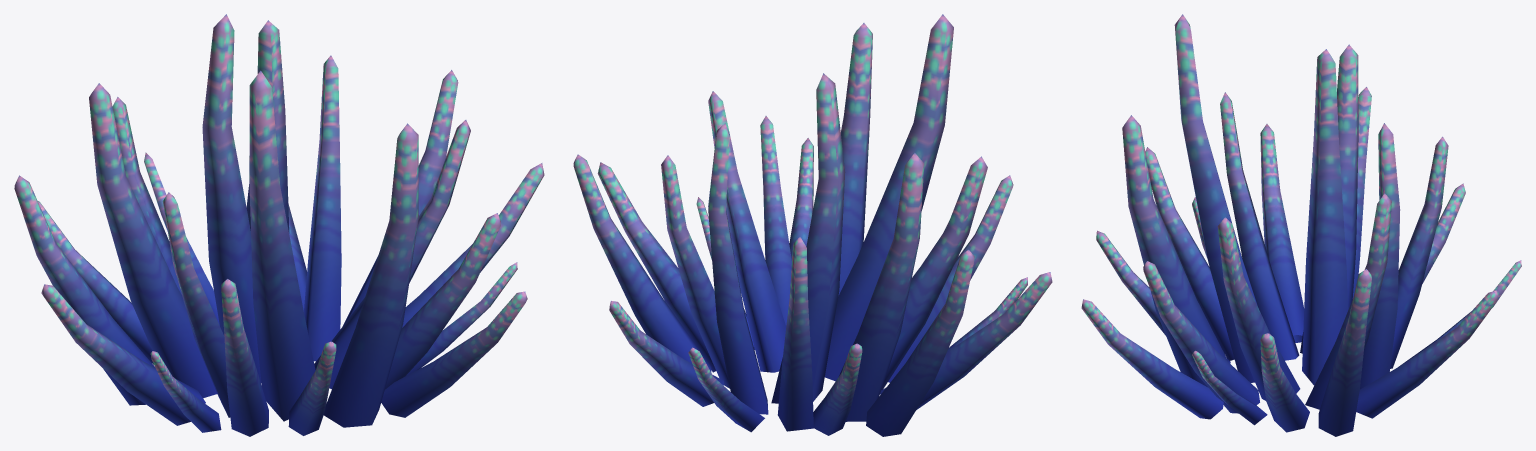
File: Coral_12.FBX
The picture shows the model from 3 angles, left to right: view 1: azimuth 30°, elevation 25°; view 2: azimuth 150°, elevation 25°; view 3: azimuth 270°, elevation 25°; orthographic projection. The views are drawn at different scales.
Parts seen in each view (by area): view 1: Coral_12; view 2: Coral_12; view 3: Coral_12.
Boxes of the visible parts, box(x1,y1,x2,y2) form: Coral_12: box(14, 14, 544, 436); Coral_12: box(573, 14, 1052, 436); Coral_12: box(1081, 14, 1521, 436).
Bounding box in the file's own units: 24.41 × 18.36 × 21.52.
